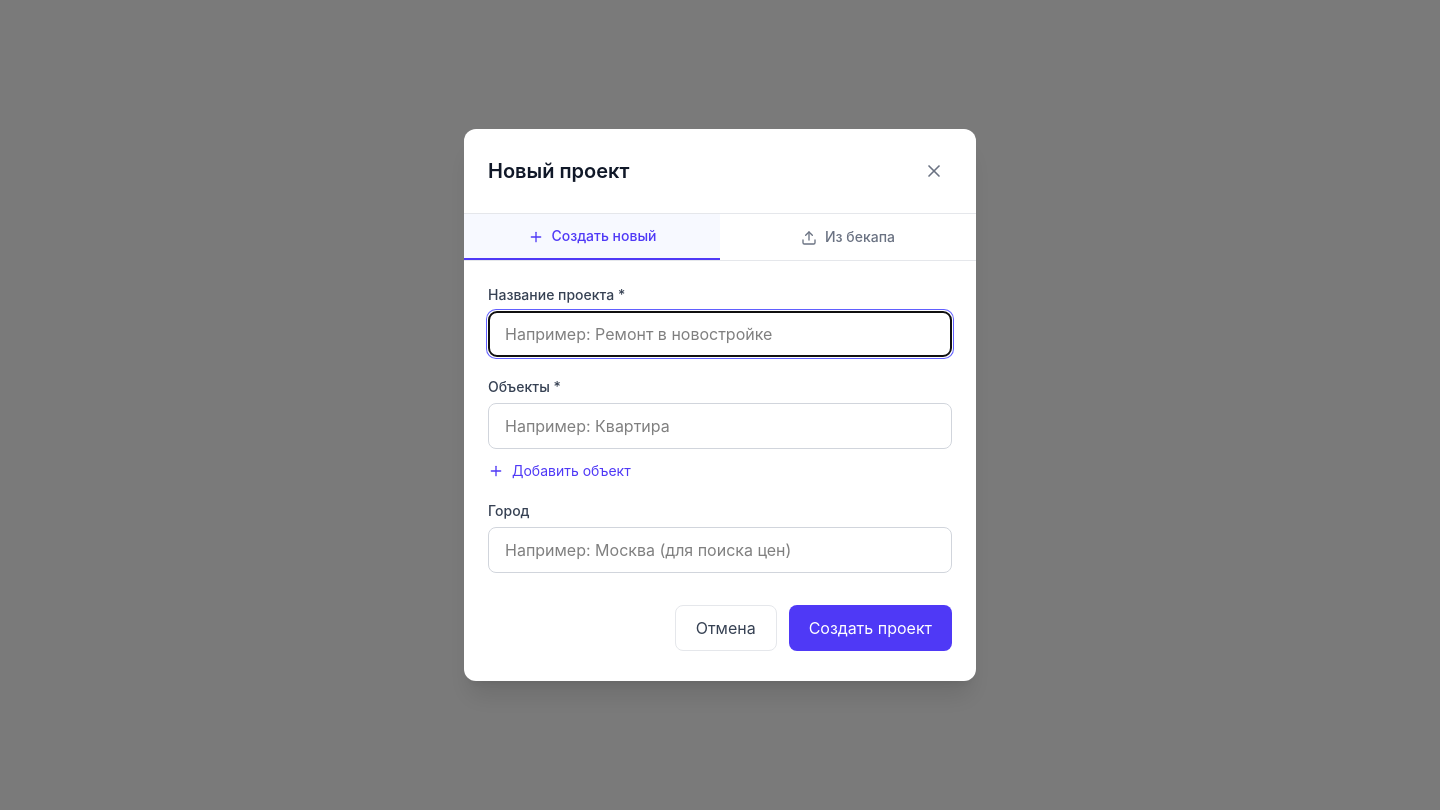
Test case: CreateProjectModal › create new project tab › should remove object field when delete button clicked
What coordinates should you click on to do the following:
click the button "Добавить объект"
I would click on:
 (559, 471)
Its box is [488,461,631,481].
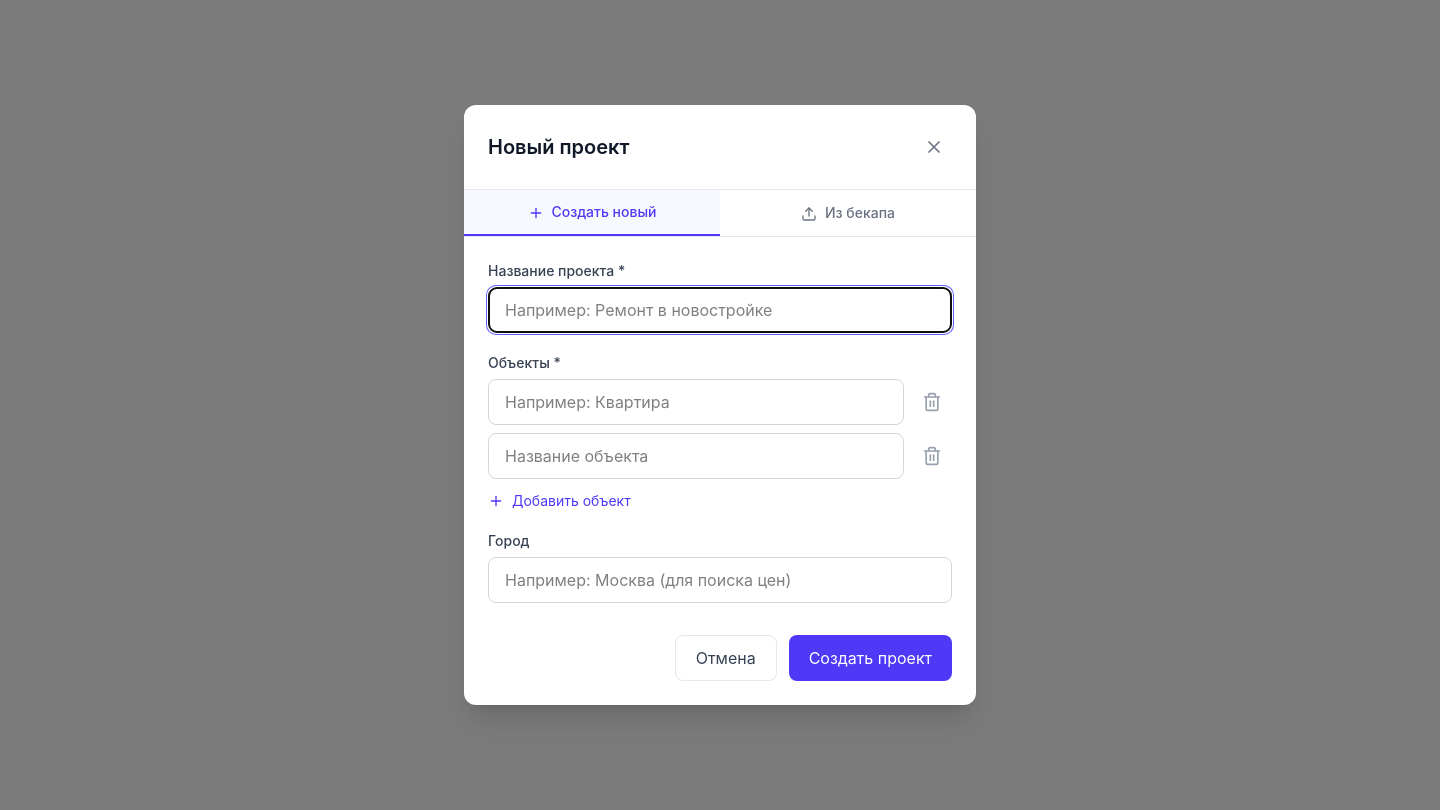
What coordinates should you click on to do the following:
click the 1st button titled "Удалить объект"
I would click on:
 (932, 402)
Its box is [912,382,952,422].
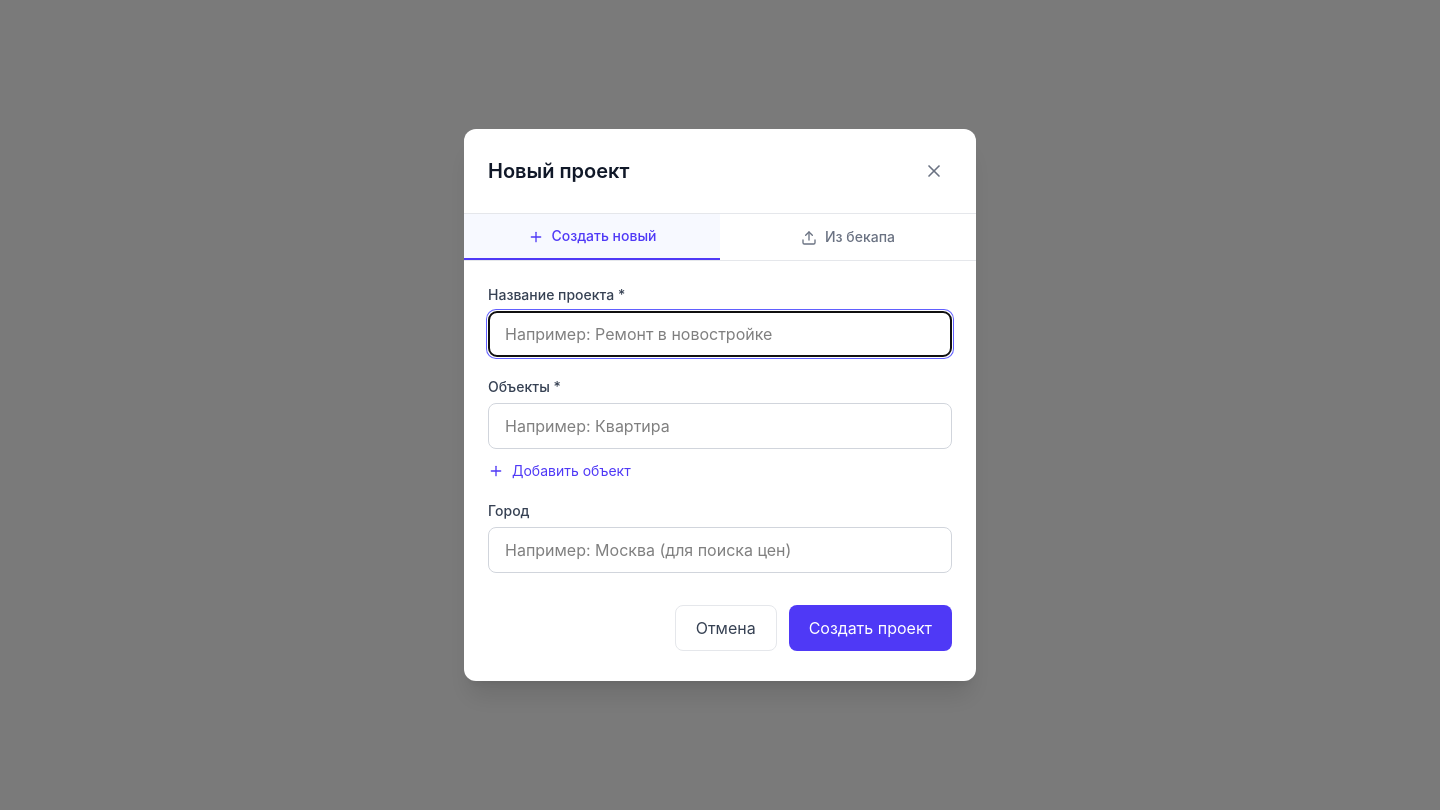
Expected: the number of fields with placeholder "Например: Квартира" is 1, [488,403,952,449]
